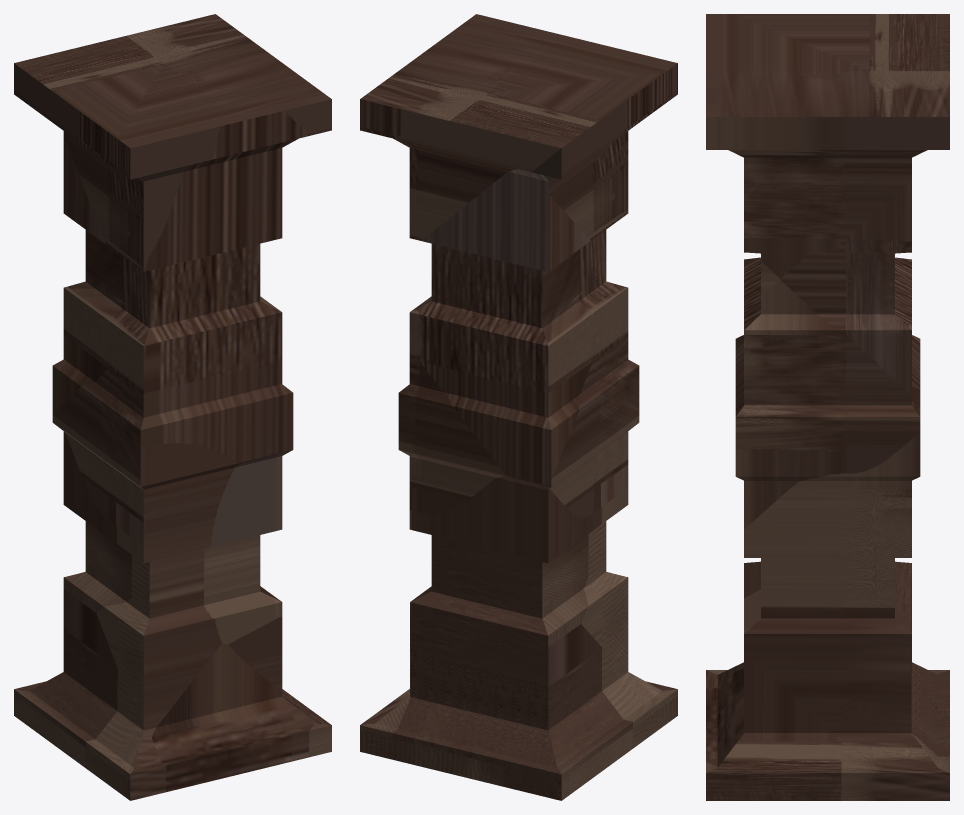
The model's file is Pillar_Large_Variation1_LowPoly.fbx.
3 renders of one model, left to right at view 1: azimuth 30°, elevation 25°; view 2: azimuth 150°, elevation 25°; view 3: azimuth 270°, elevation 25°, orthographic. The views are drawn at different scales.
Parts seen in each view (by area): view 1: Cube; view 2: Cube; view 3: Cube.
Part boxes in pixels (box(x1,y1,x2,y2)): Cube: box(14, 14, 331, 800); Cube: box(360, 14, 677, 800); Cube: box(706, 14, 949, 800).
Size of the model in its own units: 291 by 900 by 291.
